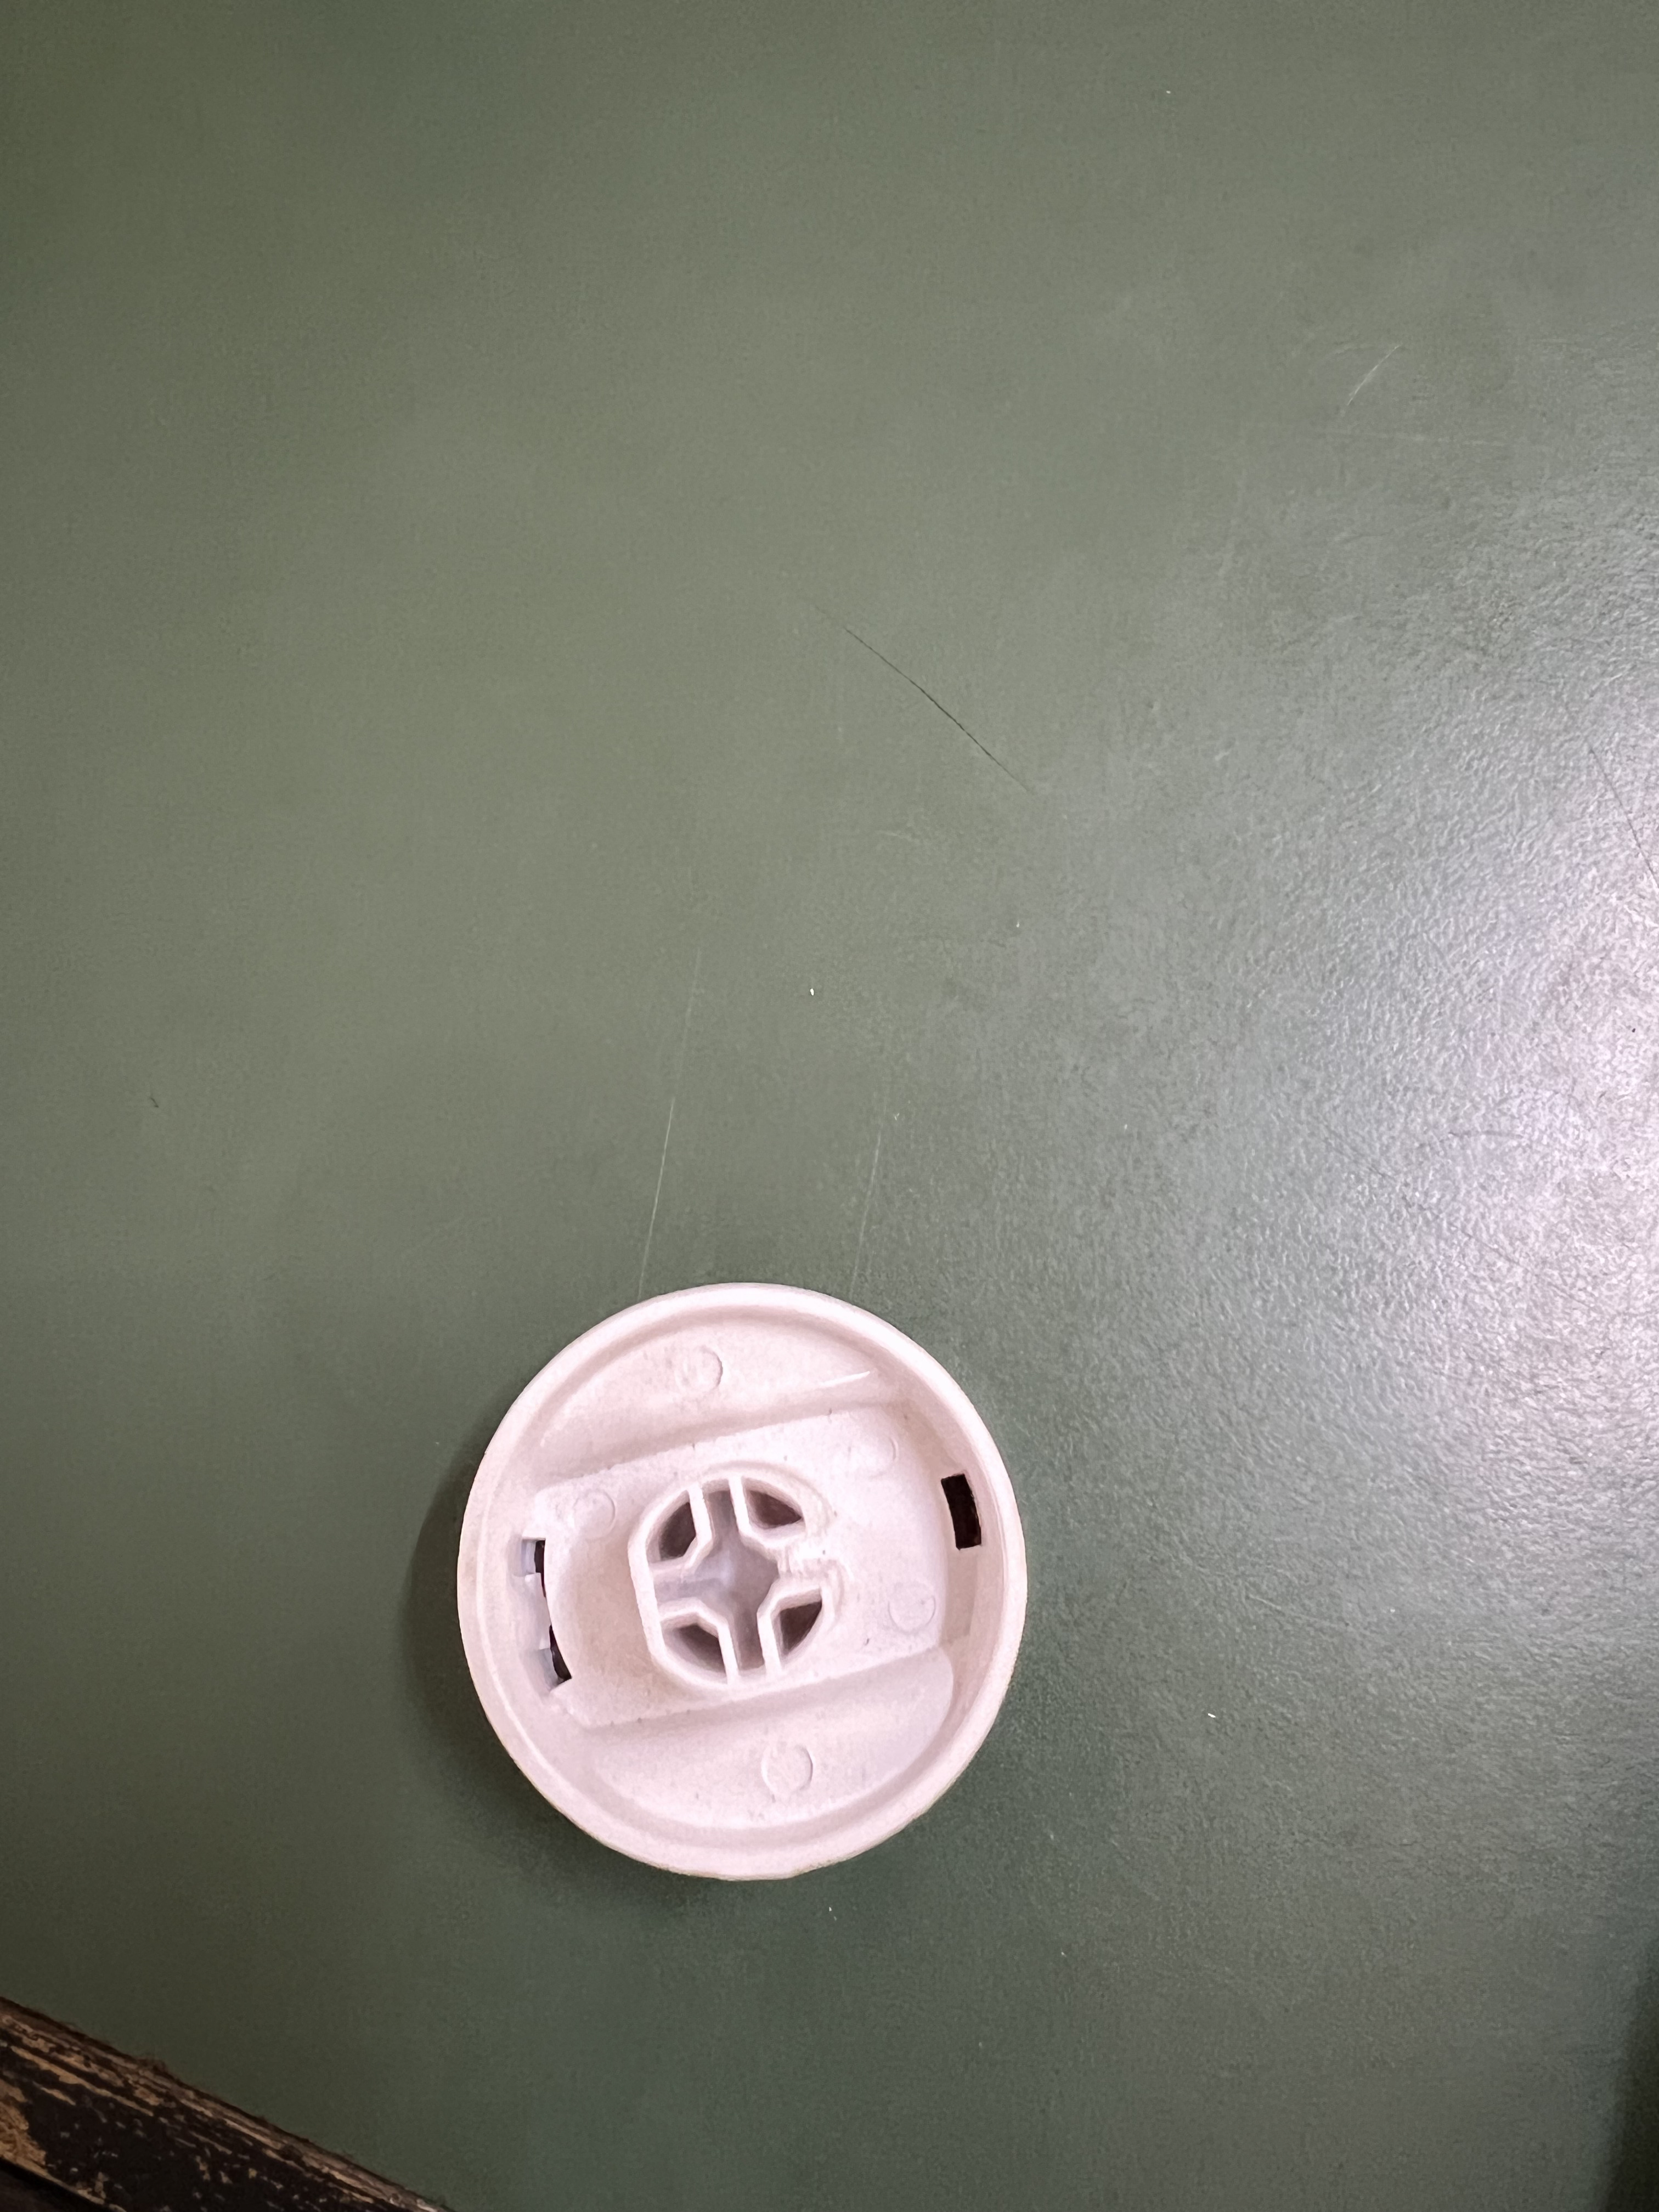regulator: (453, 1275, 1007, 1843)
